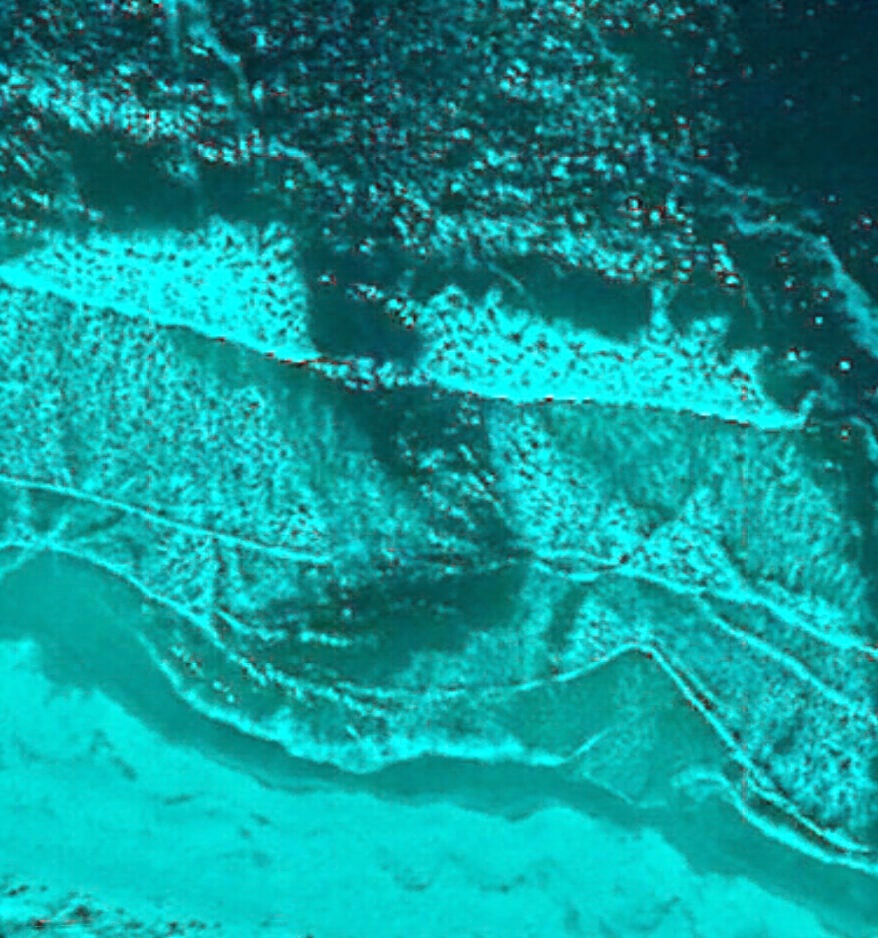rip_current: (184, 228, 609, 699)
